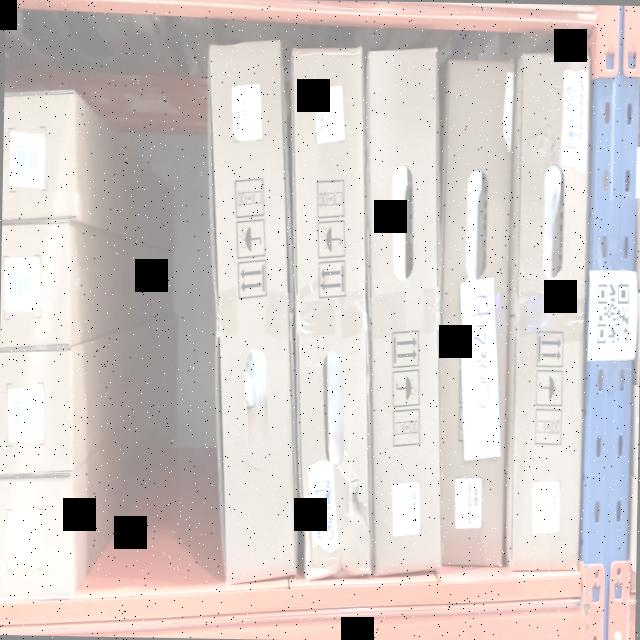box: (210, 41, 293, 586), (297, 53, 370, 577), (372, 51, 439, 572), (516, 58, 584, 568), (442, 57, 508, 564)
